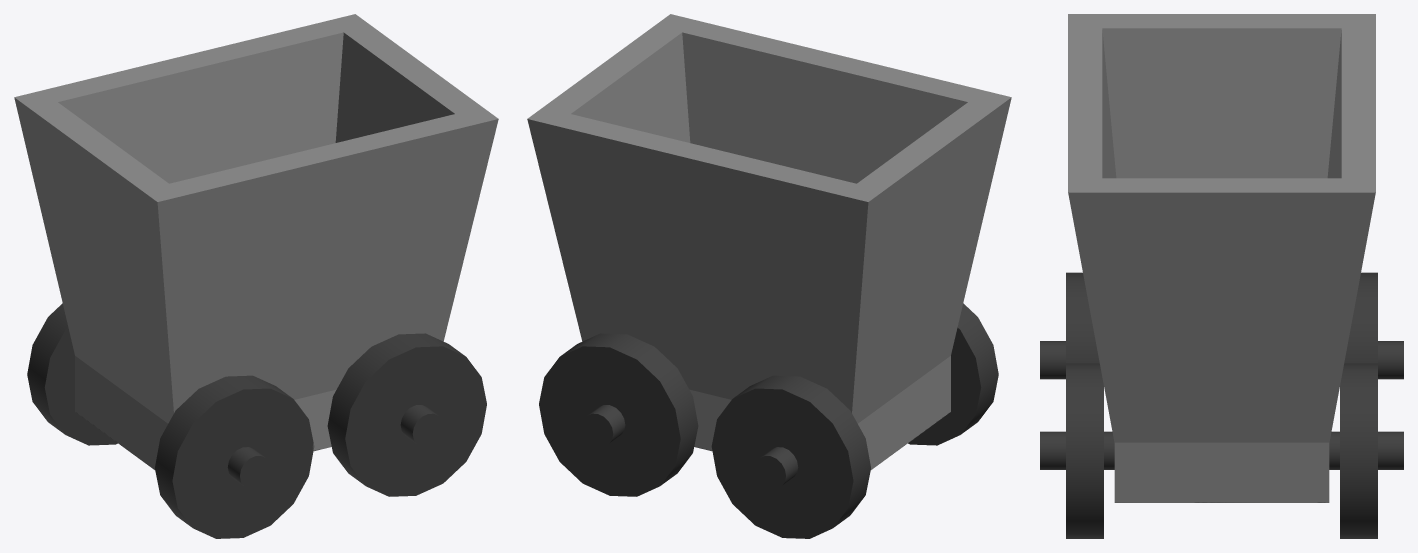
Rendered from minecart.gltf.
The picture shows the model from 3 angles, left to right: view 1: azimuth 30°, elevation 25°; view 2: azimuth 150°, elevation 25°; view 3: azimuth 270°, elevation 25°; orthographic projection. The views are drawn at different scales.
Parts seen in each view (by area): view 1: Box003; view 2: Box003; view 3: Box003.
Boxes of the visible parts, x1,y1,x2,y2 form: Box003: [14, 14, 498, 538]; Box003: [527, 14, 1011, 538]; Box003: [1040, 14, 1403, 538].
Size of the model in its own units: 1 by 0.9965 by 0.8604.
1 material, 1 textured.
